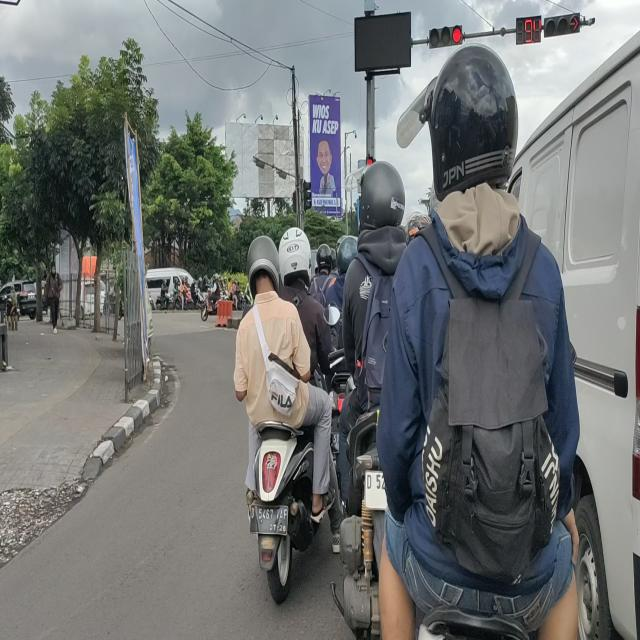helmet: (434, 42, 518, 196), (360, 165, 404, 234), (246, 231, 281, 301), (280, 221, 309, 287), (339, 235, 358, 269), (317, 242, 333, 271)
